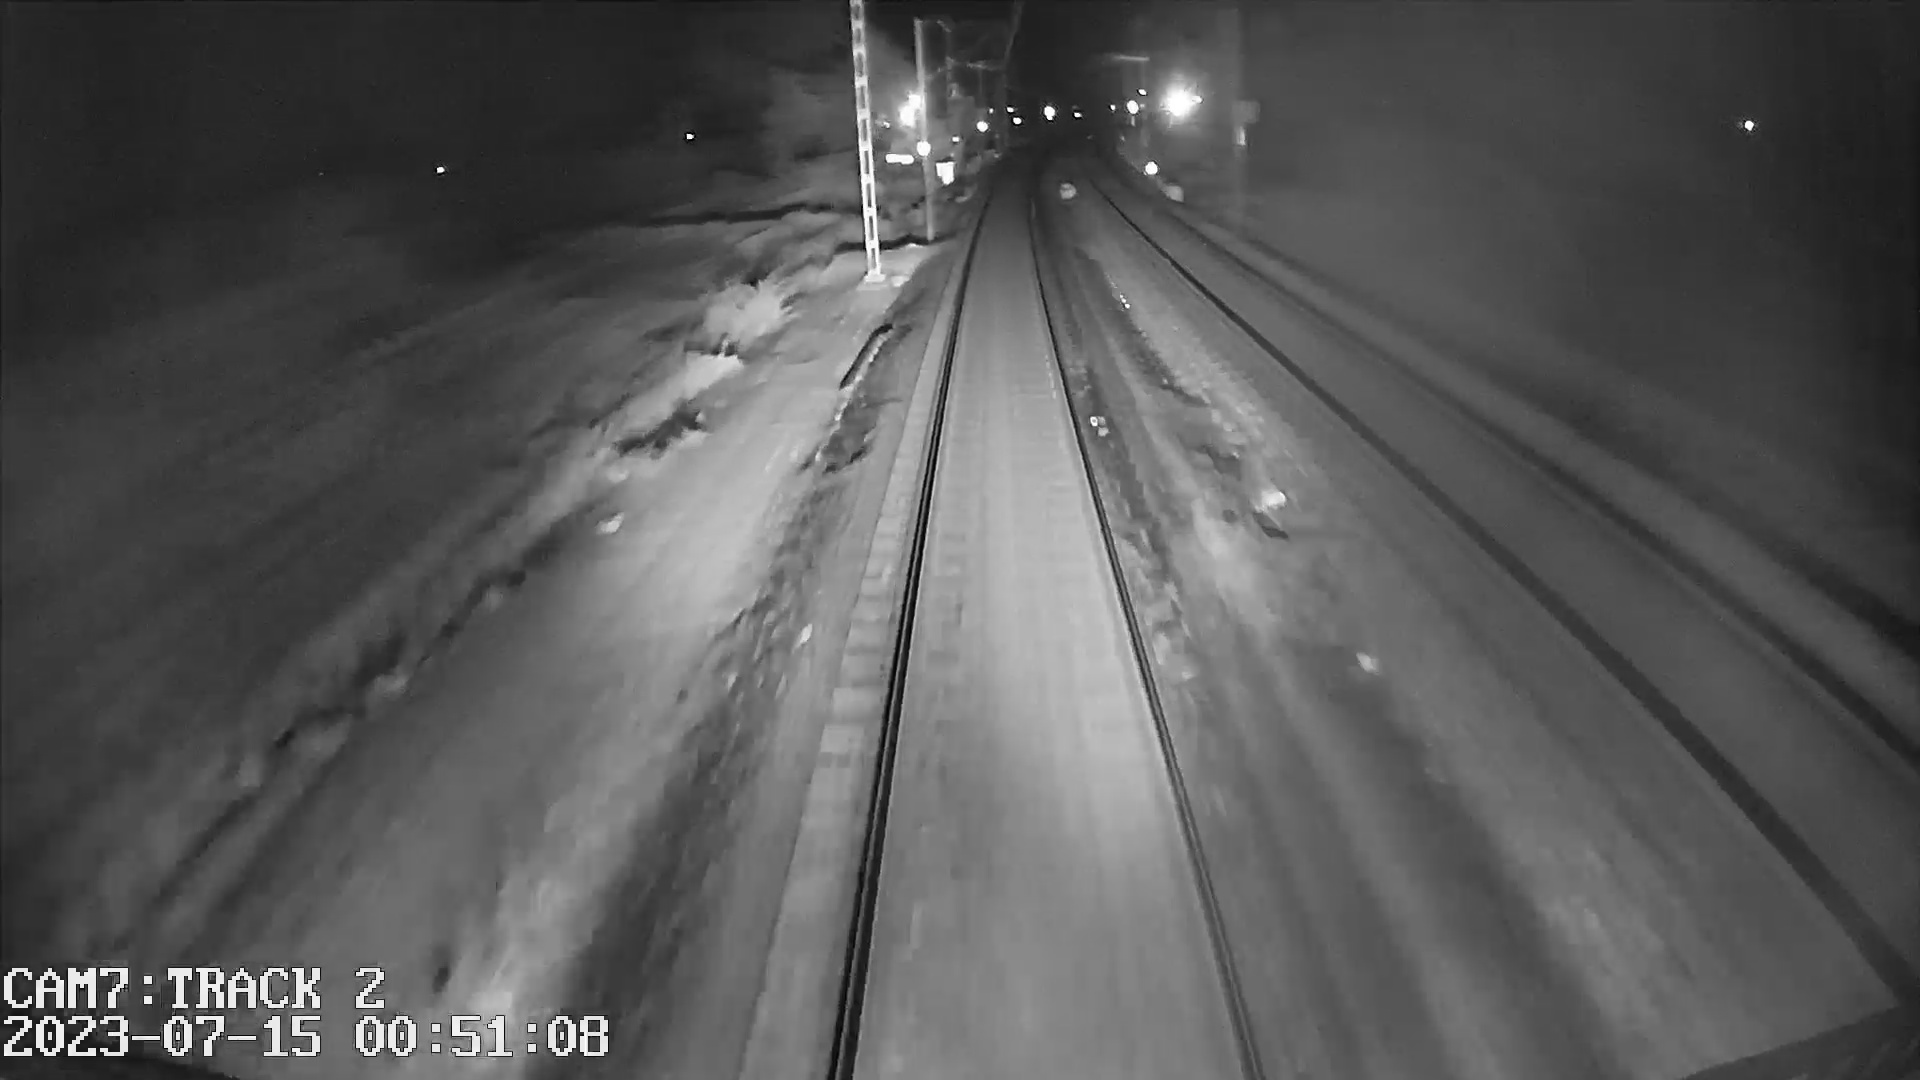track1: (847, 199, 1244, 1036)
track2: (1110, 194, 1911, 887)
